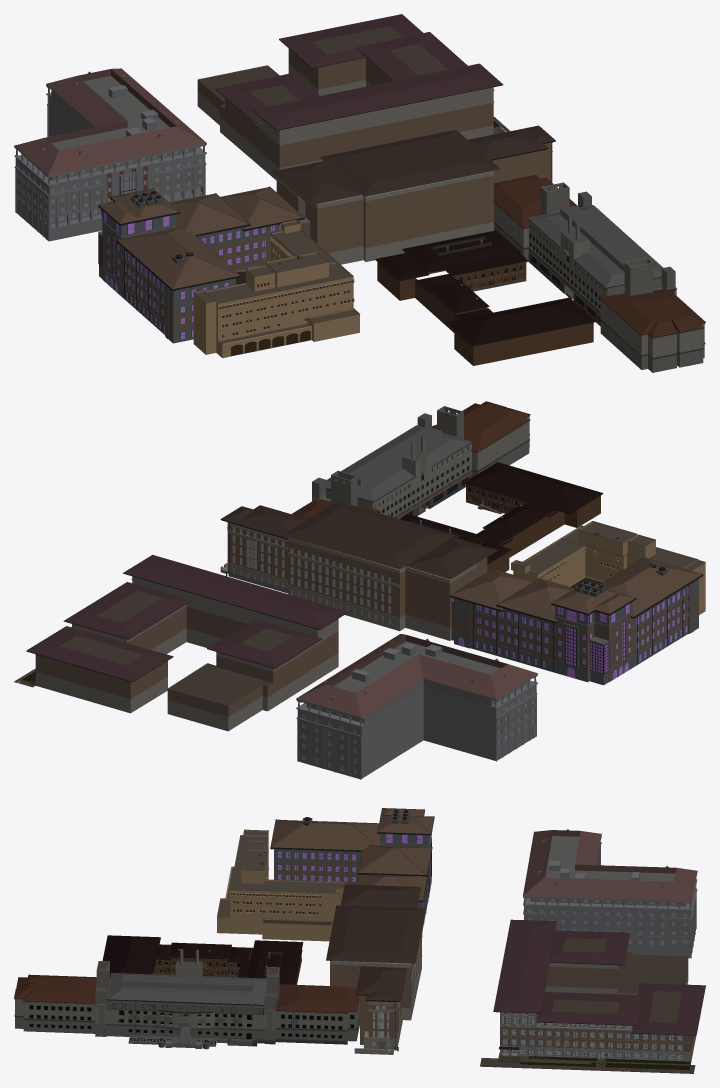
The picture shows the model from 3 angles, top to bottom: view 1: azimuth 30°, elevation 25°; view 2: azimuth 150°, elevation 25°; view 3: azimuth 270°, elevation 25°; orthographic projection. The views are drawn at different scales.
Visible parts, largest first — view 1: opaque (×2), glass; view 2: opaque (×2), glass; view 3: opaque (×2), glass.
Part boxes in pixels (bbox=[...]): opaque (×2): bbox=[14, 14, 705, 372]; glass: bbox=[18, 149, 600, 355]; opaque (×2): bbox=[14, 401, 705, 779]; glass: bbox=[233, 457, 688, 773]; opaque (×2): bbox=[14, 808, 705, 1073]; glass: bbox=[29, 834, 687, 1059].
Bounding box in the file's own units: 209 × 39.9 × 297.
15 materials, 9 textured.
